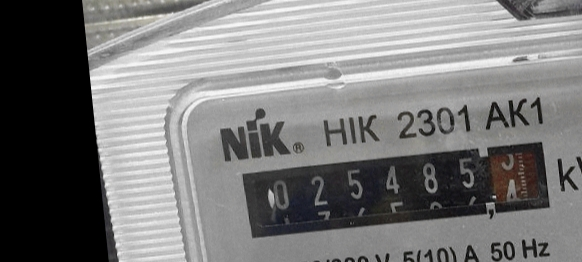0: (267, 175, 292, 212)
2: (306, 171, 329, 208)
4: (378, 161, 403, 197), (499, 175, 521, 204)
5: (453, 153, 477, 192), (341, 164, 365, 201)
8: (417, 157, 441, 197)
screen: (231, 132, 559, 250)
